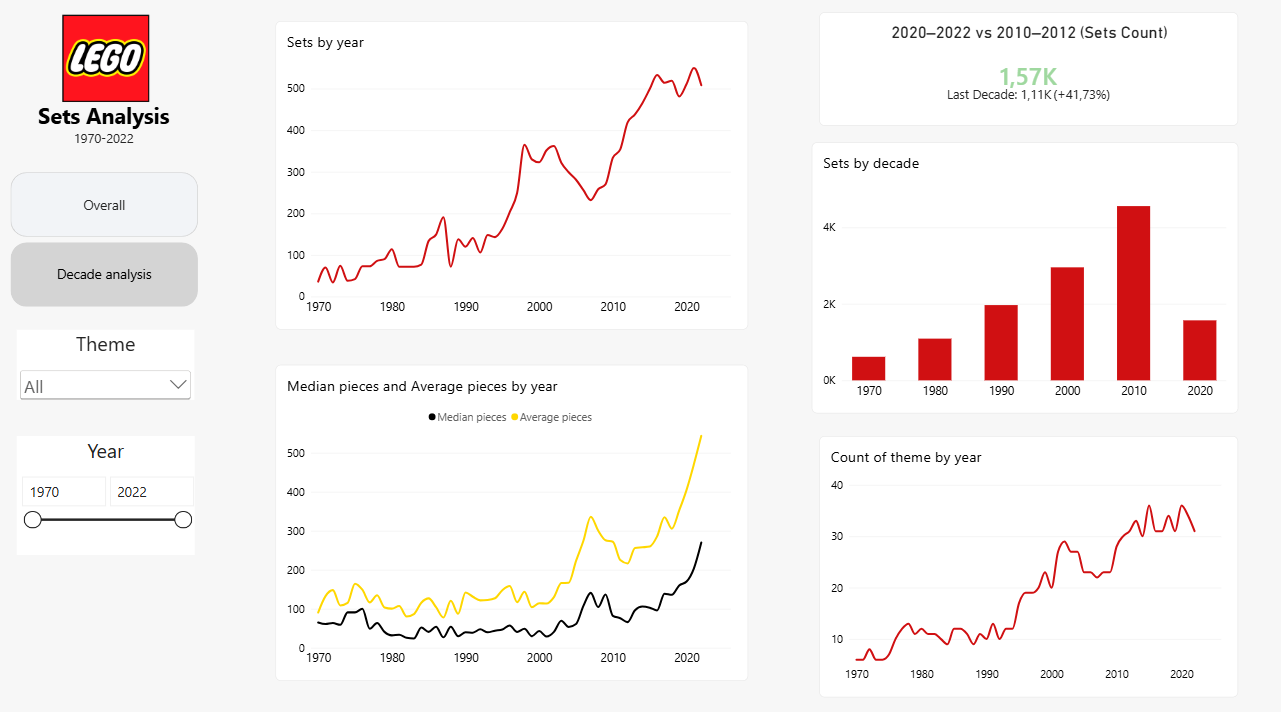

What the dashboard file says about the page in this screenshot:
{"tool":"powerbi","page":{"name":"Decade analysis","canvas":[1920,1080],"ordinal":1},"visuals":[{"type":"columnChart","fields":{"Category":["Sets.decade"],"Y":["Count(Sets.set_id)"]},"box":[1212.9,222.7,627.6,399.4],"z":0},{"type":"kpi","title":"2020–2022 vs 2010–2012 (Sets Count)","fields":{"Goal":["Lego Measures.Last Decade (first 3 years)"],"Indicator":["Lego Measures.Current Decade (first 3 years)"],"TrendLine":["Sets.year"]},"box":[1223.9,31.3,616.6,167.5],"z":1000},{"type":"lineChart","fields":{"Category":["Sets.year"],"Y":["Lego Measures.Sets"]},"box":[423.3,44.2,695.7,454.6],"z":2000},{"type":"lineChart","fields":{"Category":["Sets.year"],"Y":["Lego Measures.Median pieces","Lego Measures.Average pieces"]},"box":[423.3,550.3,695.7,465.6],"z":3000},{"type":"lineChart","fields":{"Category":["Sets.year"],"Y":["Count(Sets.theme)"]},"box":[1223.9,655.2,616.6,384.7],"z":4000},{"type":"slicer","title":"Year","fields":{"Values":["Sets.year"]},"box":[42.3,655.2,261.4,174.8],"z":5000},{"type":"textbox","box":[49.7,152.8,241.1,90.2],"z":6000},{"type":"slicer","title":"Theme","fields":{"Values":["Sets.theme"]},"box":[42.3,498.8,261.4,103.1],"z":7000},{"type":"image","box":[49.7,25.8,246.6,149.1],"z":8000},{"type":"pageNavigator","box":[33.1,266.9,276.1,198.8],"z":9000}]}

Visuals, with their boxes on the page's 1920x1080 design canvas (x1, y1, x2, y2). These are canvas units, not pixel positions in the 1281x712 screenshot, which may show the page scaled, cropped or inside an application window:
columnChart - Sets.decade x Count(Sets.set_id): locate(1213, 223, 1840, 622)
"2020–2022 vs 2010–2012 (Sets Count)" kpi: locate(1224, 31, 1840, 199)
lineChart - Sets.year x Lego Measures.Sets: locate(423, 44, 1119, 499)
lineChart - Sets.year x Lego Measures.Median pieces: locate(423, 550, 1119, 1016)
lineChart - Sets.year x Count(Sets.theme): locate(1224, 655, 1840, 1040)
"Year" slicer: locate(42, 655, 304, 830)
textbox: locate(50, 153, 291, 243)
"Theme" slicer: locate(42, 499, 304, 602)
image: locate(50, 26, 296, 175)
pageNavigator: locate(33, 267, 309, 466)
